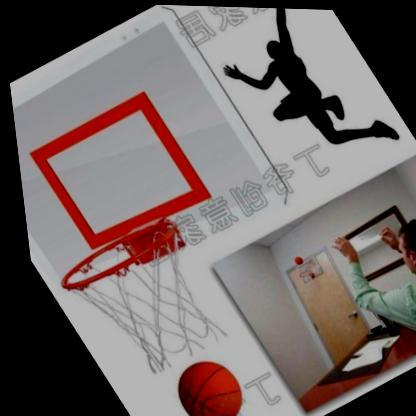basketball: (151, 347, 247, 416)
rim: (40, 208, 241, 394)
